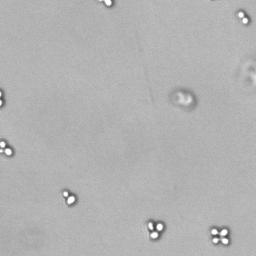budding: (146, 218, 165, 242), (60, 189, 78, 207), (235, 8, 252, 26), (97, 1, 117, 8), (1, 88, 4, 111)
cluster: (209, 225, 230, 246), (1, 137, 14, 159)
